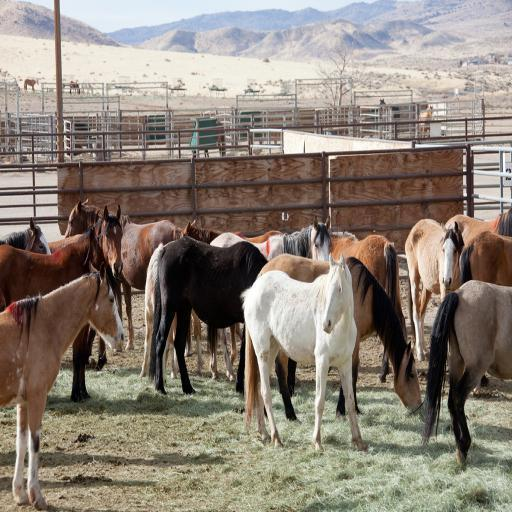horse: (0, 196, 512, 454), (0, 260, 126, 512), (406, 280, 512, 468)
